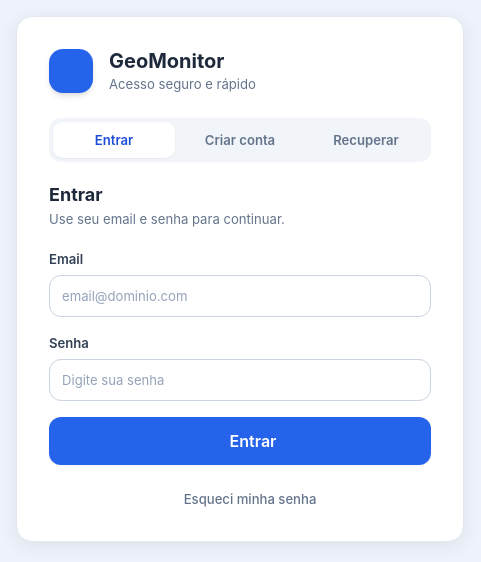
Scenario: AuthView accents › renders the accented reset-mode hint
Step 1. Click the button "Recuperar" → point(366, 140), box left=305, top=122, right=427, bottom=158
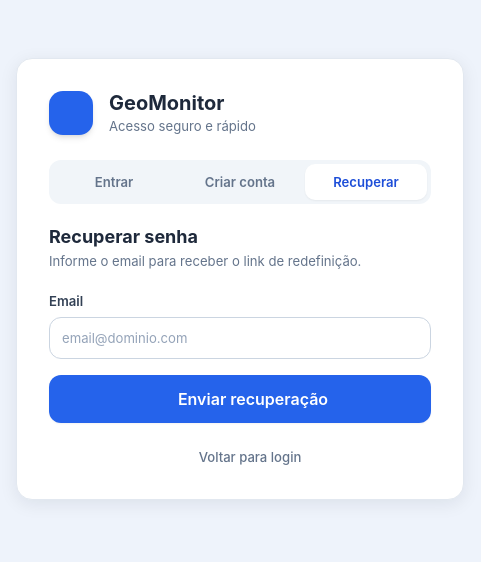
Expected: the text "Informe o email para receber o link de redefinição." is shown, left=49, top=253, right=361, bottom=269
